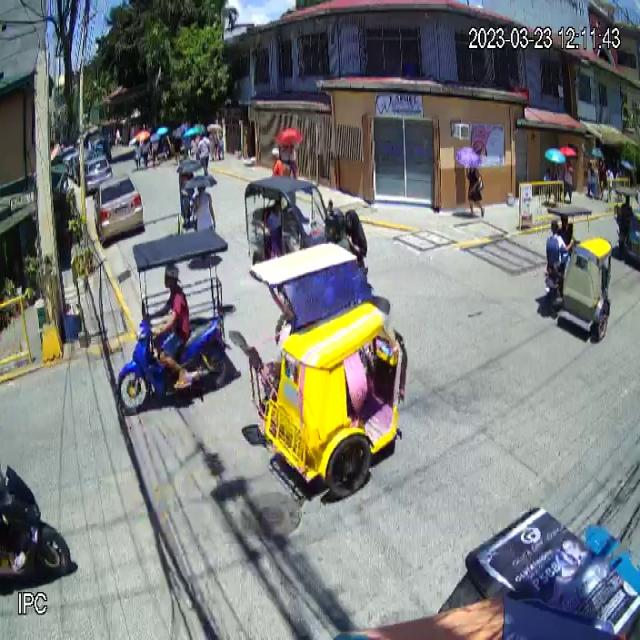Tricycle: (240, 242, 410, 500), (114, 228, 229, 413), (544, 205, 612, 342)
